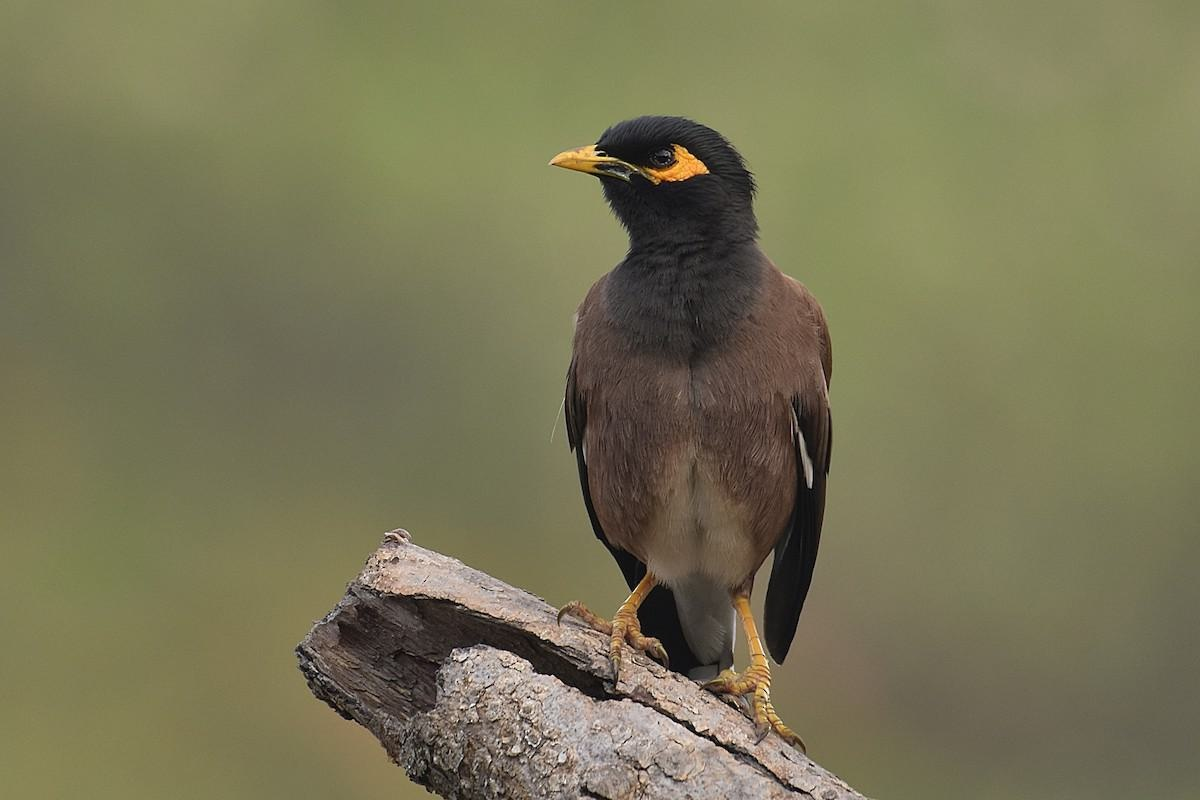myna: (494, 31, 949, 734)
